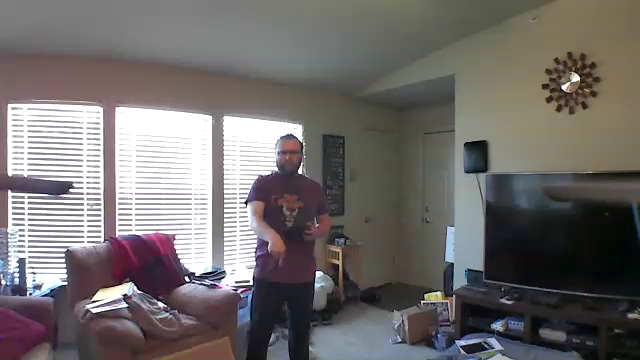down: (263, 225, 291, 271)
